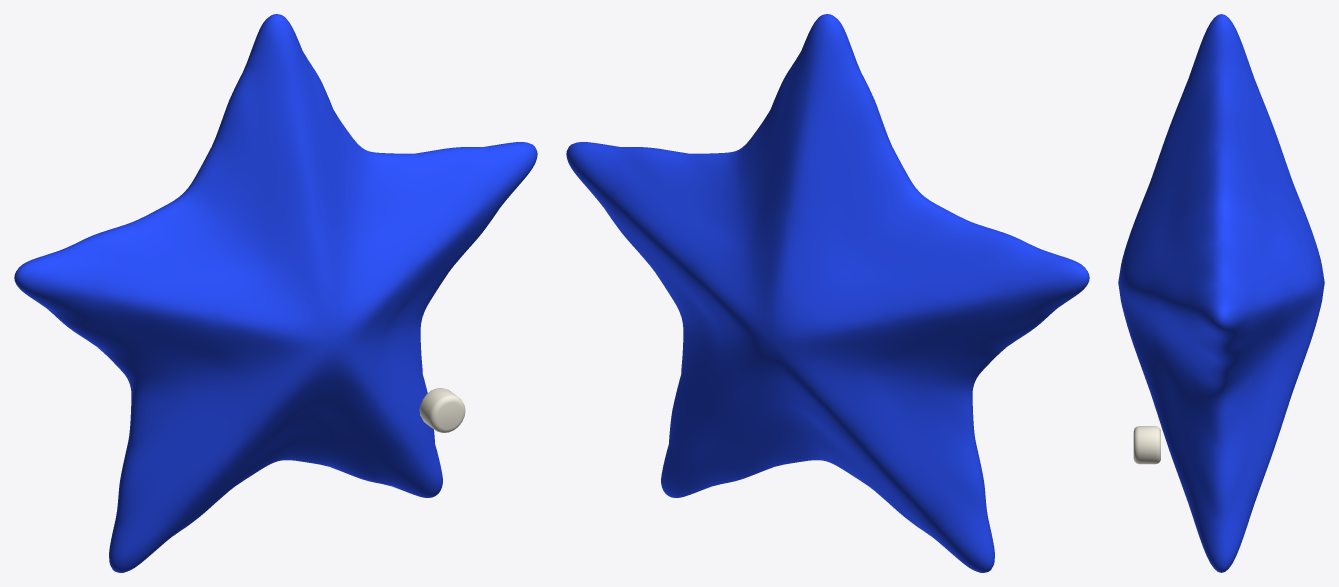
Rendered from life-star.glb.
The picture shows the model from 3 angles, left to right: view 1: azimuth 30°, elevation 25°; view 2: azimuth 150°, elevation 25°; view 3: azimuth 270°, elevation 25°; orthographic projection. The views are drawn at different scales.
Visible parts, largest first — view 1: Star, Valve; view 2: Star; view 3: Star, Valve.
Boxes of the visible parts, box(x1,y1,x2,y2) form: Star: box(14, 14, 537, 572); Valve: box(419, 388, 465, 432); Star: box(566, 14, 1089, 572); Star: box(1118, 14, 1324, 572); Valve: box(1133, 426, 1160, 464).
Size of the model in its own units: 2.05 by 1.96 by 0.7529.
